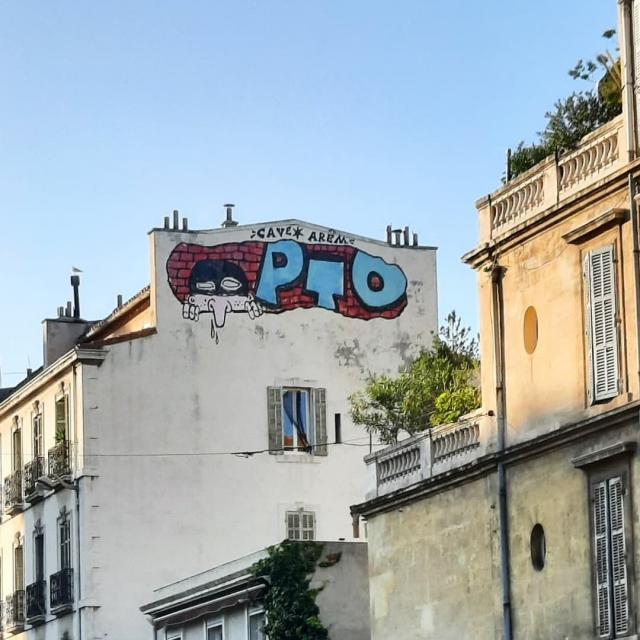-: (165, 239, 412, 330), (252, 226, 358, 246)
